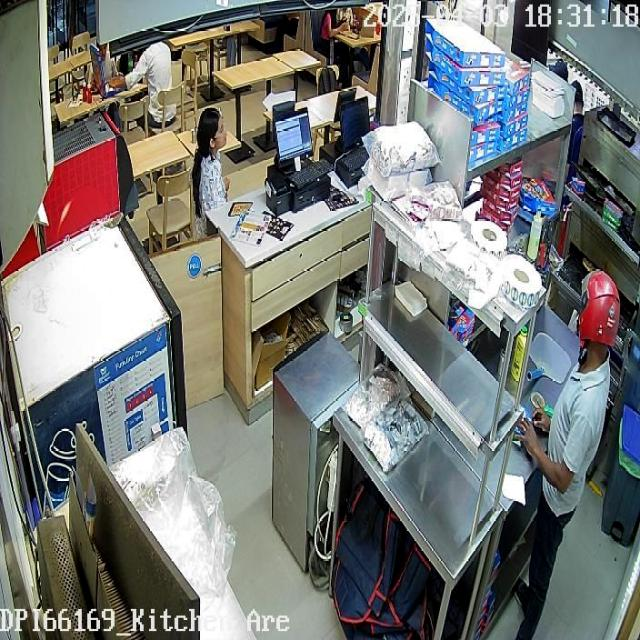helmet: (577, 269, 620, 374)
no_helmet: (196, 108, 227, 156)
